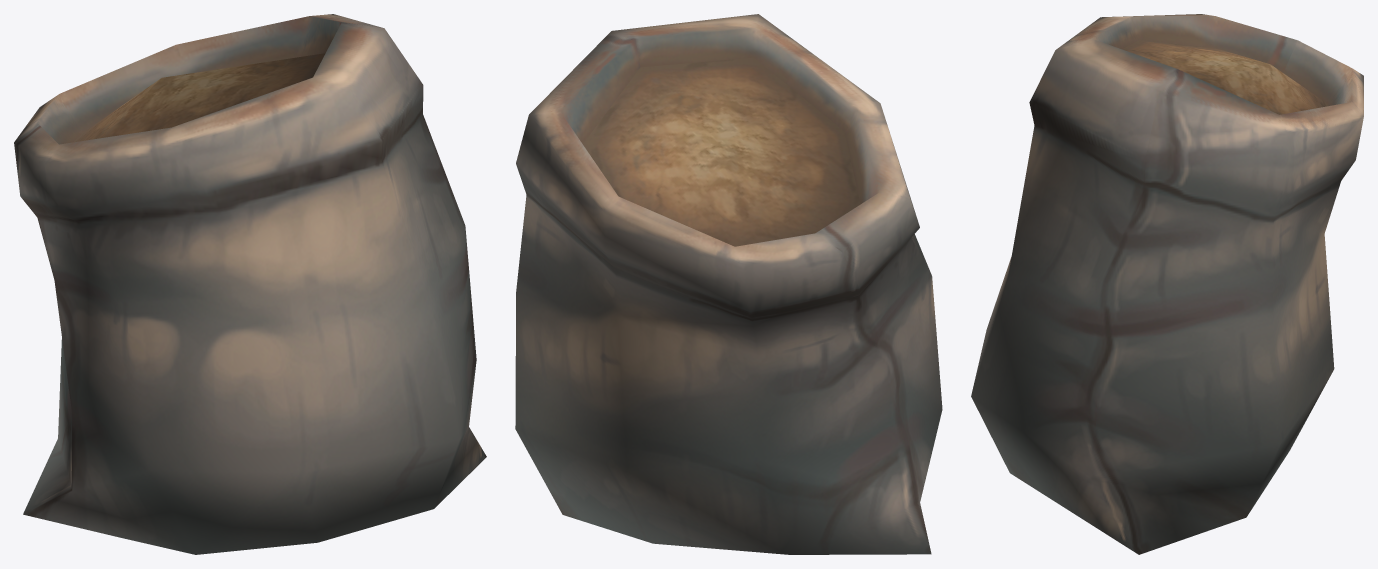
Rendered from sack_of_sand_large3.fbx.
The picture shows the model from 3 angles, left to right: view 1: azimuth 30°, elevation 25°; view 2: azimuth 150°, elevation 25°; view 3: azimuth 270°, elevation 25°; orthographic projection. The views are drawn at different scales.
Visible parts, largest first — view 1: sack_of_sand_large3; view 2: sack_of_sand_large3; view 3: sack_of_sand_large3.
Part boxes in pixels (x1,y1,x2,y2): sack_of_sand_large3: (14, 14, 486, 554); sack_of_sand_large3: (515, 14, 942, 554); sack_of_sand_large3: (971, 14, 1363, 554).
Size of the model in its own units: 94.01 by 94.69 by 78.04.
